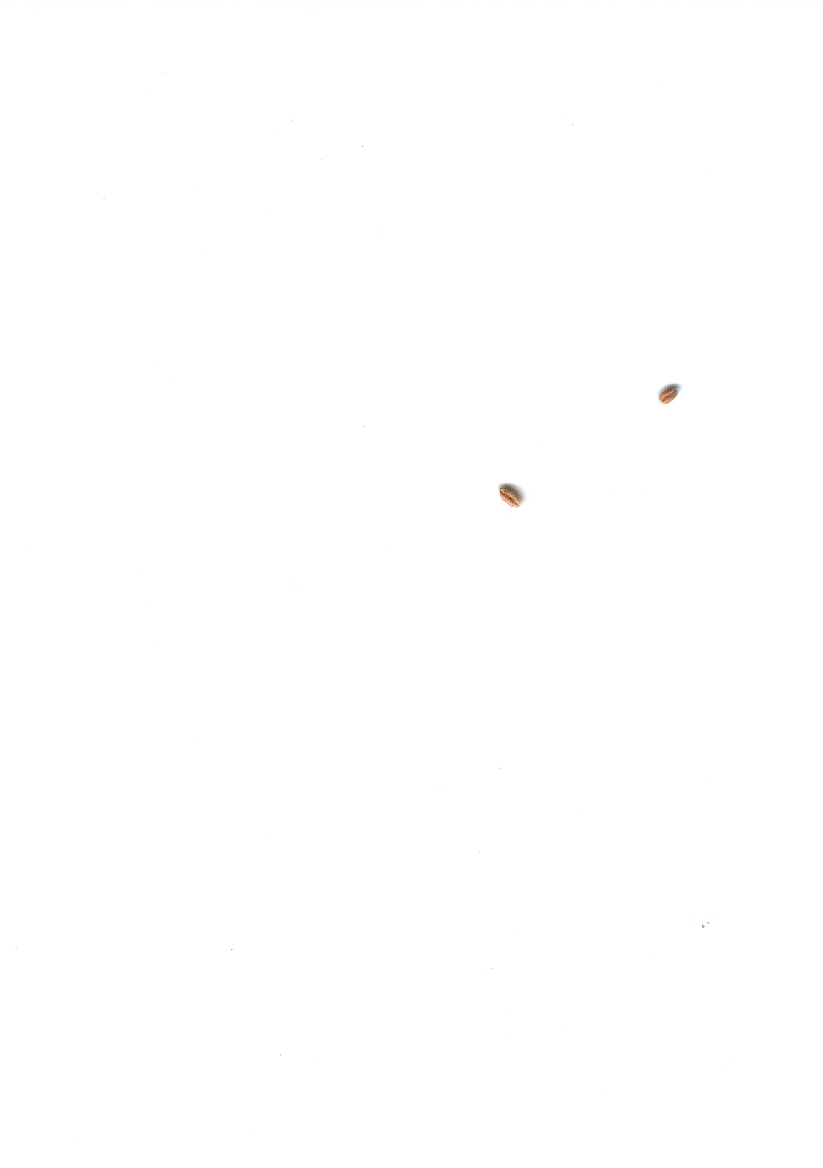grains: (653, 372, 688, 411), (497, 475, 523, 517)
